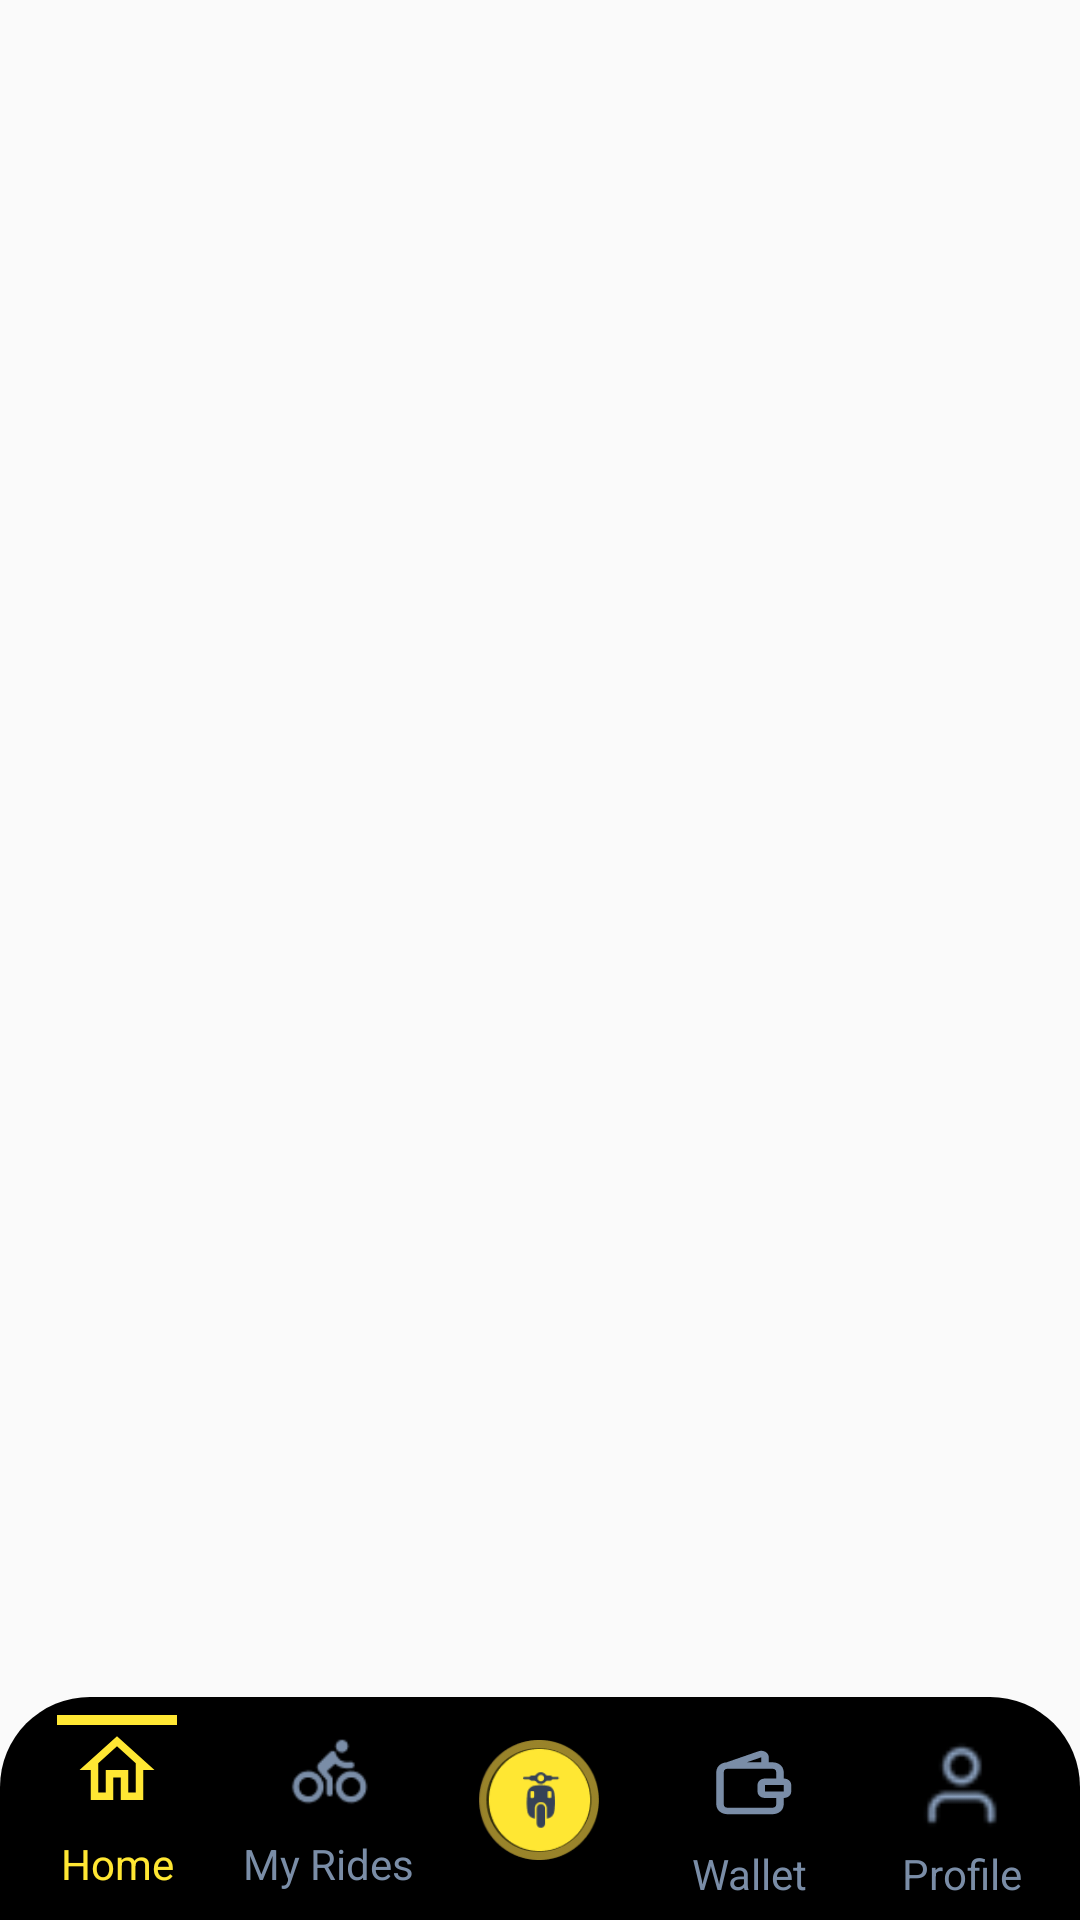

Point at icon controls on the screen. Image size 1080*1920, points as [x,y].
person: [962,1785]
